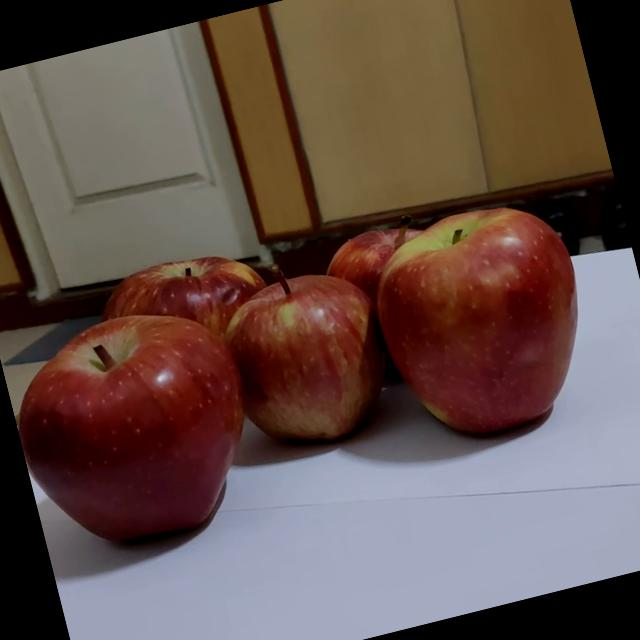apple: (19, 312, 304, 608), (59, 263, 292, 492), (402, 219, 628, 452), (250, 281, 452, 483), (282, 218, 452, 384)
